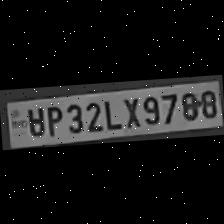2: (82, 98, 102, 132)
3: (62, 100, 82, 134)
7: (158, 90, 178, 124)
8: (177, 88, 198, 121), (197, 88, 218, 120)
9: (138, 92, 160, 125)
L: (100, 96, 120, 130)
P: (44, 103, 64, 137)
U: (22, 104, 44, 137)
X: (119, 94, 141, 127)
